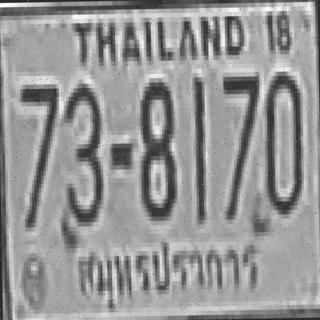N00: (261, 67, 302, 210)
N01: (192, 75, 204, 222)
N03: (58, 81, 101, 224)
N07: (18, 80, 58, 227), (220, 72, 259, 219)
N08: (137, 77, 175, 216)
P57: (70, 236, 263, 320)
